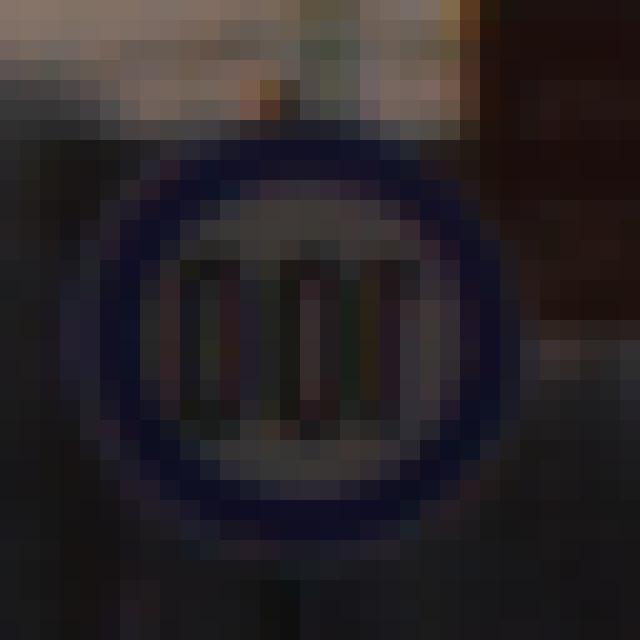SPEED LIMIT 100: (70, 133, 516, 555)
